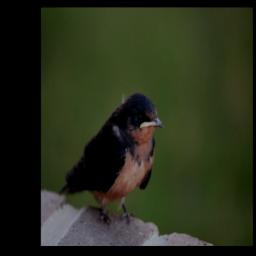Swallow: (59, 91, 164, 227)
